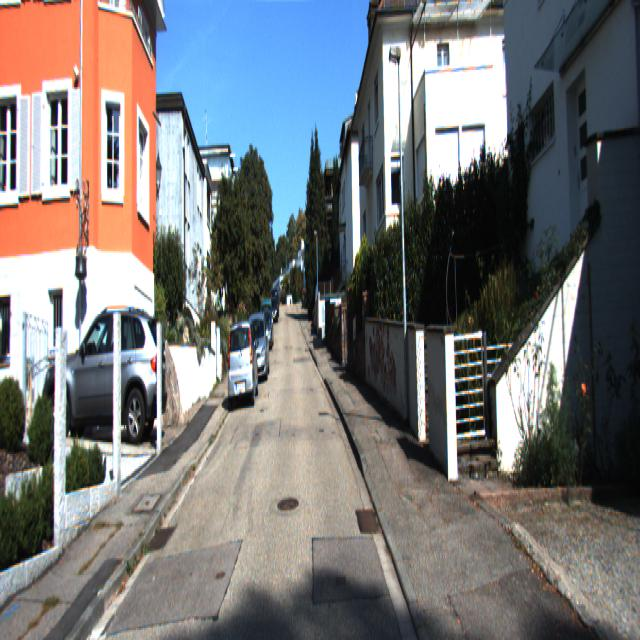Car: (44, 297, 170, 445), (226, 314, 260, 408), (242, 311, 271, 382), (257, 310, 274, 350)
